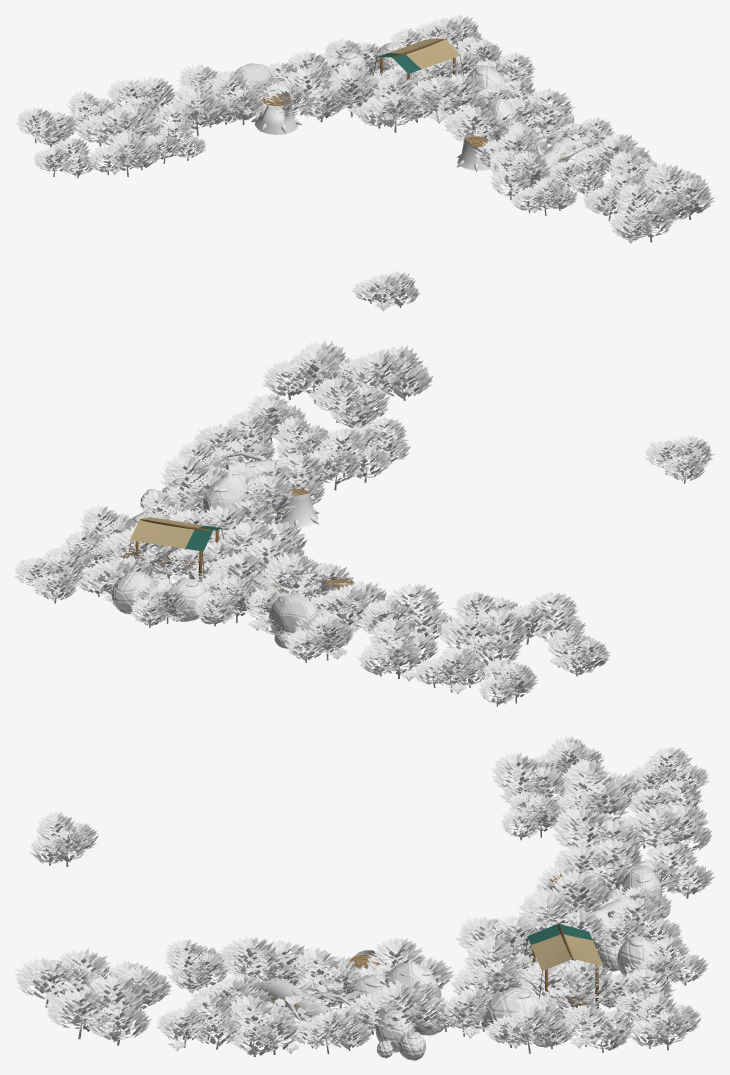
File: SM_DF_Explorer_3_3_Macro.fbx
3 views of the same model, one above another, from view 1: azimuth 30°, elevation 25°; view 2: azimuth 150°, elevation 25°; view 3: azimuth 270°, elevation 25° (orthographic). The views are drawn at different scales.
Visible parts, largest first — view 1: SM_DF_Explorer_3_3_Macro; view 2: SM_DF_Explorer_3_3_Macro; view 3: SM_DF_Explorer_3_3_Macro.
Boxes of the visible parts, x1,y1,x2,y2 form: SM_DF_Explorer_3_3_Macro: (14, 15, 714, 311); SM_DF_Explorer_3_3_Macro: (14, 340, 714, 706); SM_DF_Explorer_3_3_Macro: (14, 735, 714, 1060).
Bounding box in the file's own units: 2878 × 2944 × 353.
